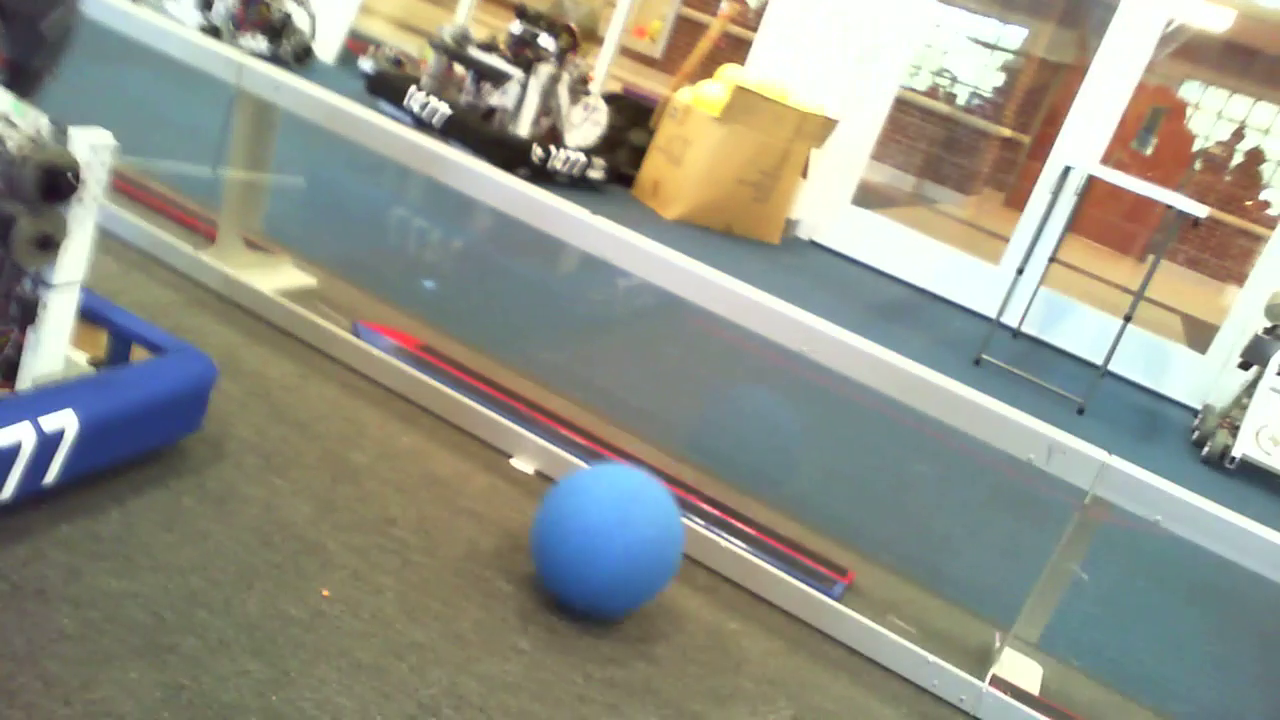blue_cargo: (522, 459, 690, 624)
